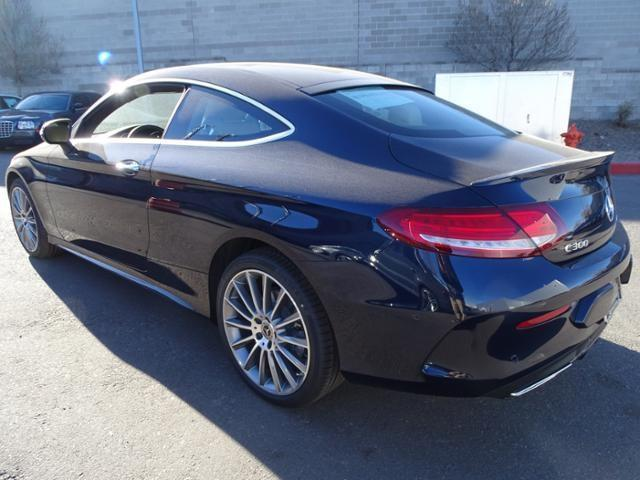C300Coupe: (3, 52, 635, 420)
